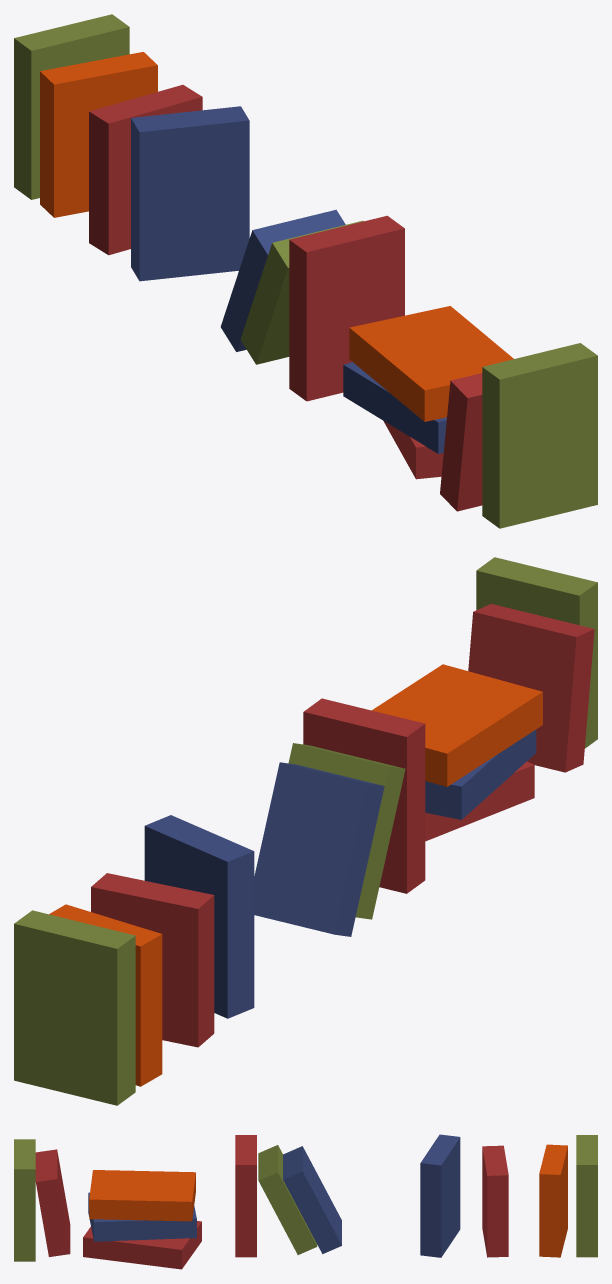
File: Books.002.fbx
3 views of the same model, one above another, from view 1: azimuth 30°, elevation 25°; view 2: azimuth 150°, elevation 25°; view 3: azimuth 270°, elevation 25° (orthographic). The views are drawn at different scales.
Visible parts, largest first — view 1: Books.002; view 2: Books.002; view 3: Books.002.
Part boxes in pixels (bbox=[...]): Books.002: bbox=[14, 14, 597, 528]; Books.002: bbox=[14, 557, 597, 1105]; Books.002: bbox=[14, 1134, 597, 1269].
Bounding box in the file's own units: 0.1859 × 0.1913 × 1.08.
